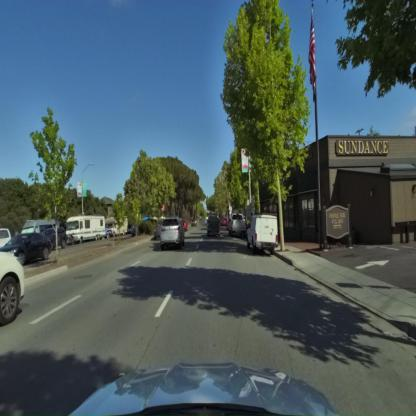car: (0, 242, 29, 338), (2, 233, 53, 266), (22, 220, 66, 250), (154, 218, 187, 252), (229, 214, 248, 237), (0, 229, 13, 254), (206, 216, 220, 237)
truck: (247, 216, 279, 257), (68, 214, 107, 245)
